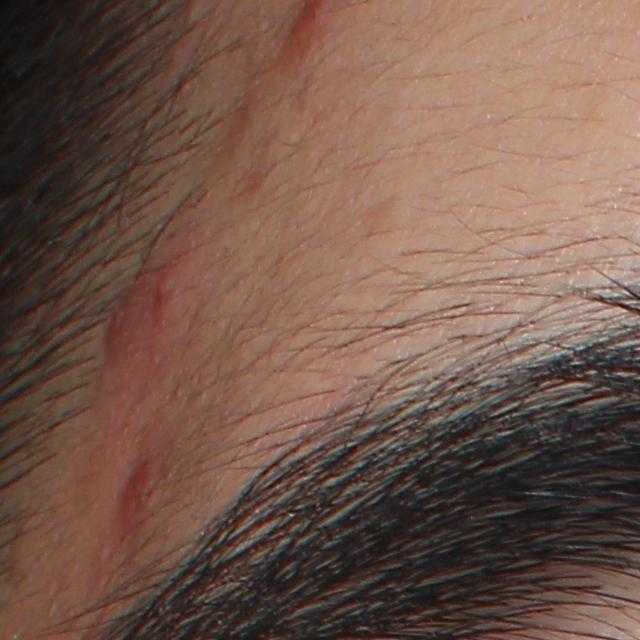papule: (117, 457, 159, 517), (285, 0, 324, 48)
